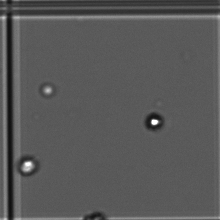Living Cell: (144, 113, 163, 130), (17, 157, 36, 173), (41, 83, 56, 97)
